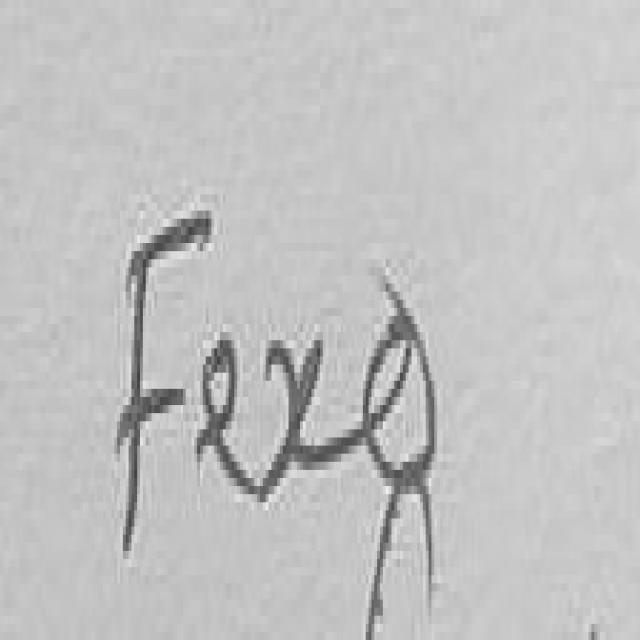F: (117, 211, 210, 551)
e: (199, 340, 257, 494)
o: (369, 284, 437, 478)
x: (260, 340, 363, 498)
